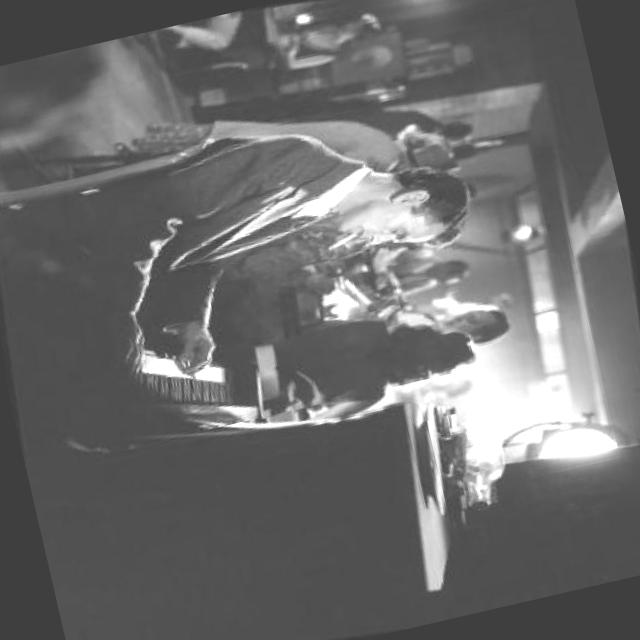smoke: (320, 228, 360, 256)
